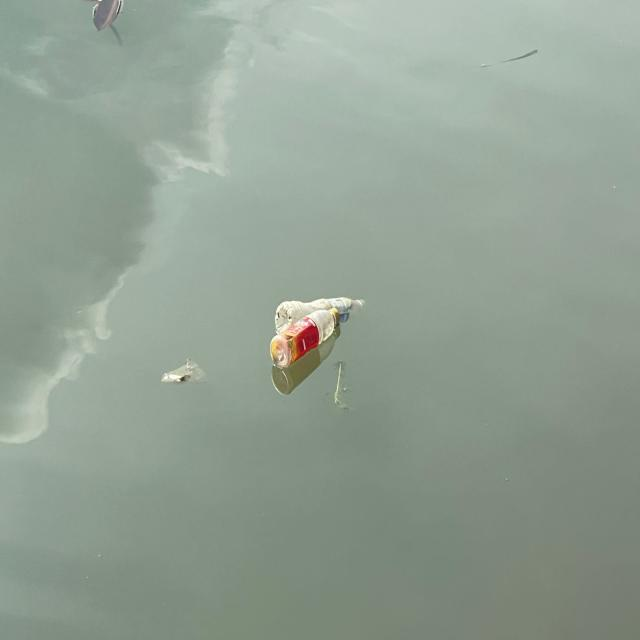Botol Plastik: (257, 304, 349, 376), (270, 286, 370, 333)
